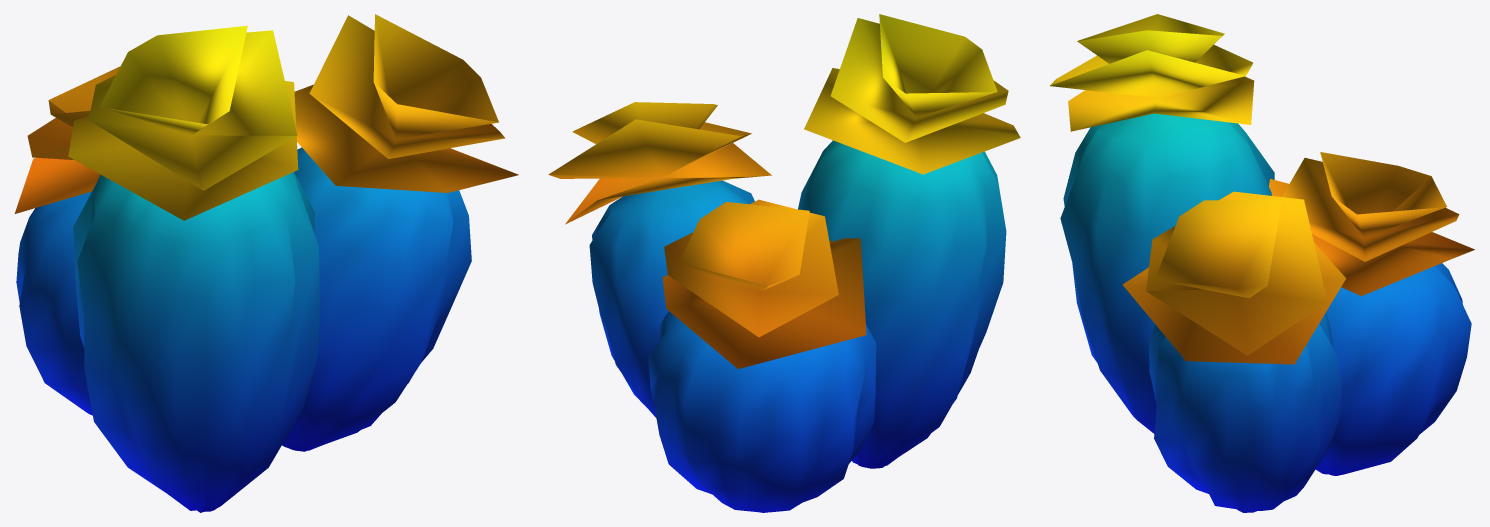
File: Cacactus4.fbx
3 views of the same model, side by side, from view 1: azimuth 30°, elevation 25°; view 2: azimuth 150°, elevation 25°; view 3: azimuth 270°, elevation 25° (orthographic). The views are drawn at different scales.
Parts seen in each view (by area): view 1: Cacactus4_LOD0; view 2: Cacactus4_LOD0; view 3: Cacactus4_LOD0.
Boxes of the visible parts, bbox=[...] form: Cacactus4_LOD0: bbox=[14, 14, 518, 512]; Cacactus4_LOD0: bbox=[548, 14, 1020, 512]; Cacactus4_LOD0: bbox=[1050, 14, 1474, 512].
Size of what is drawn, in the model's own units: 105 by 103 by 92.32.
